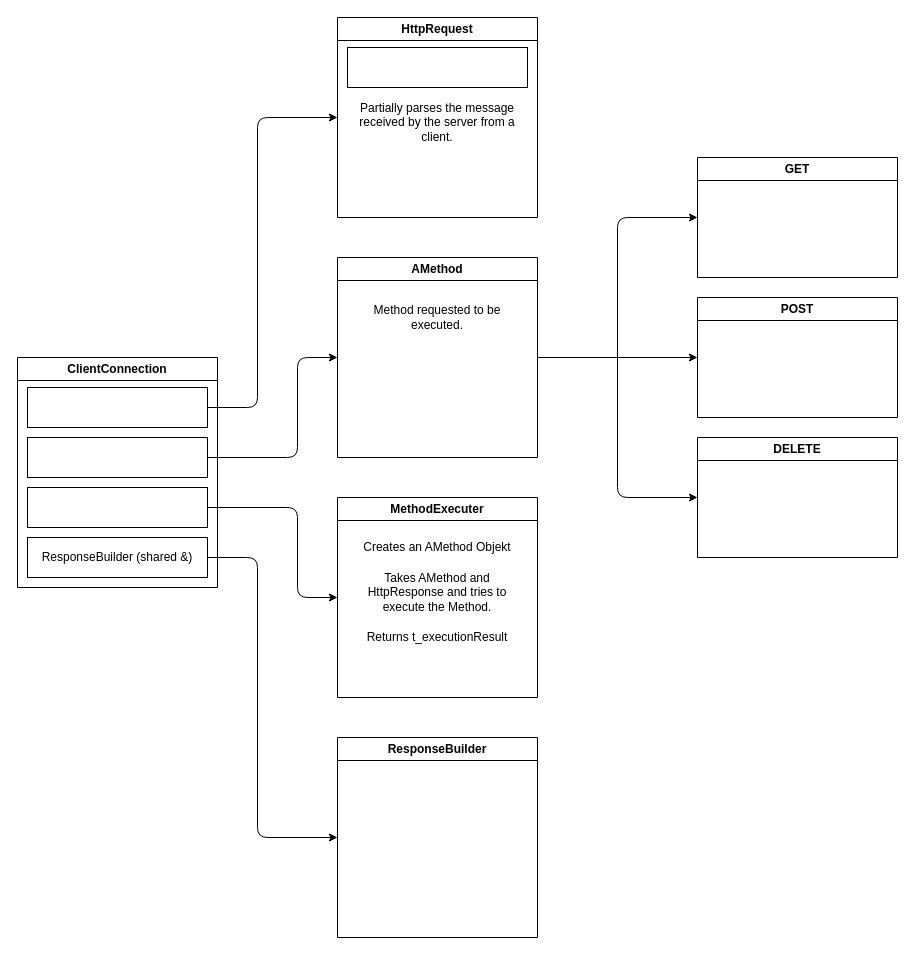
Some shapes in this 915 by 955 pixel diagram are drawn without their labels. The shapes that lost their labels are listed below. From the top down, each one's centre as x and y in pixels, then its label:
At (437,67): "ABodyParser".
At (117,407): "HttpRequest (new)".
At (117,457): "AMethod (new)".
At (117,507): "MethodExecuter (shared &)".
